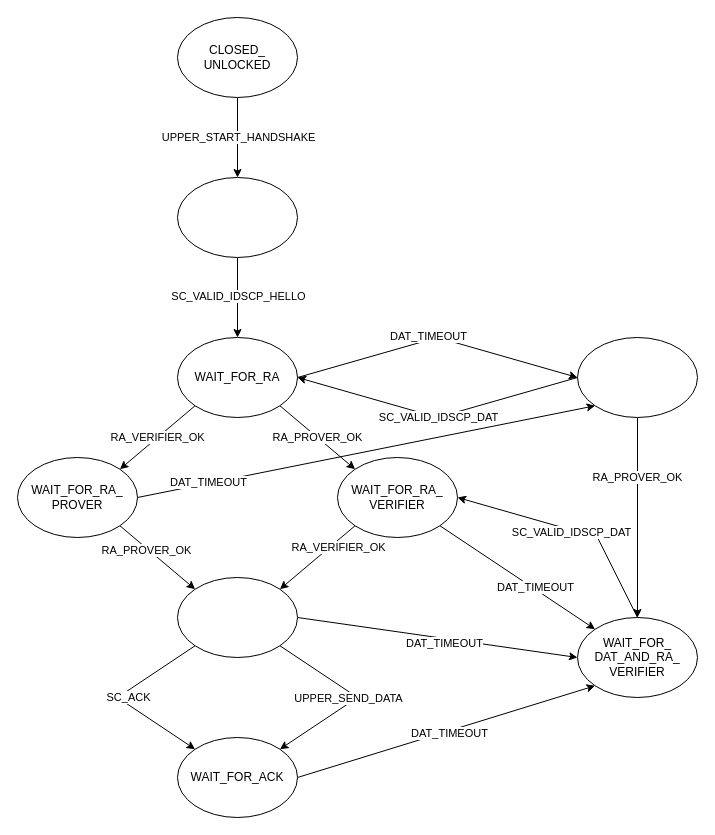
Image size: 715x835. Some labels were removed from this diagram. The centre of each missing label's shape, as x and y in pixels:
ESTABLISHED: the point at 237,617
WAIT_FOR_ DAT_AND_RA: the point at 637,377
WAIT_FOR_HELLO: the point at 237,217
